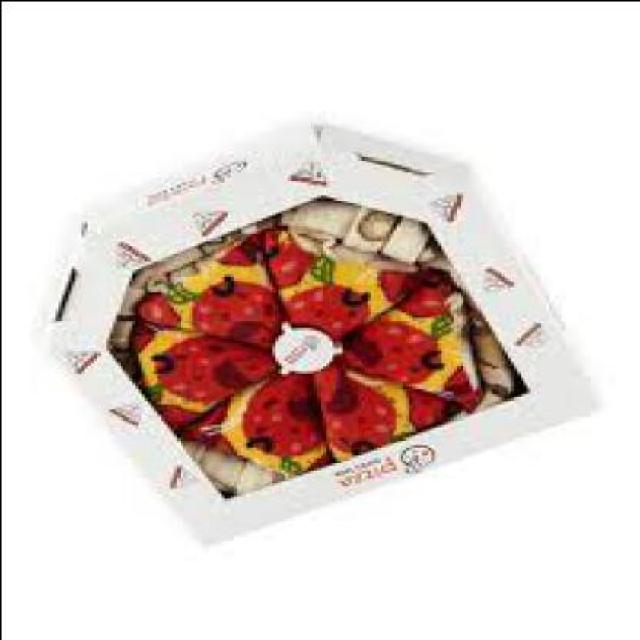BIODEGRADABLE: (341, 285, 484, 413), (130, 326, 284, 434), (267, 237, 421, 345), (136, 242, 287, 344), (322, 365, 449, 464), (232, 381, 331, 479)
CARDBOARD: (50, 128, 608, 554)
